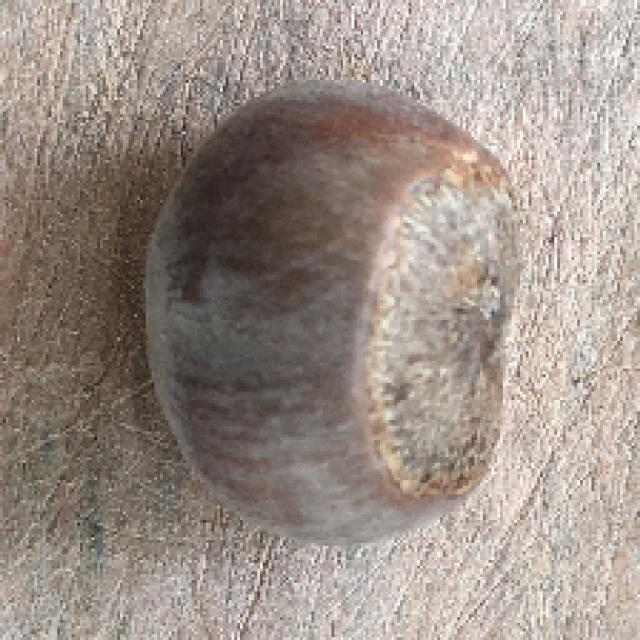qualityHazelnut: (145, 88, 526, 522)
